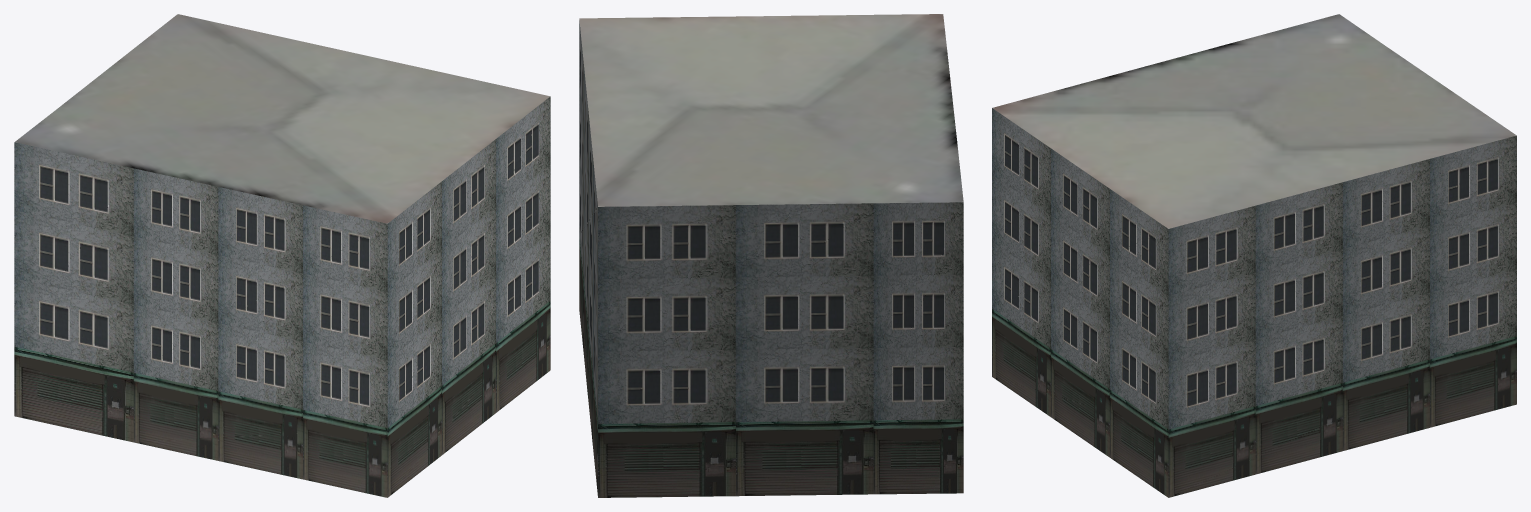
3 views of the same model, side by side, from view 1: azimuth 30°, elevation 25°; view 2: azimuth 150°, elevation 25°; view 3: azimuth 270°, elevation 25° (orthographic). The views are drawn at different scales.
Parts seen in each view (by area): view 1: SketchUp (×7); view 2: SketchUp (×7); view 3: SketchUp (×5).
Part boxes in pixels (x1=…): SketchUp (×7): x1=14, y1=14, x2=550, y2=497; SketchUp (×7): x1=579, y1=14, x2=963, y2=497; SketchUp (×5): x1=992, y1=14, x2=1516, y2=497.
Bounding box in the file's own units: 22.2 × 22.9 × 12.95.
3 materials, 3 textured.
